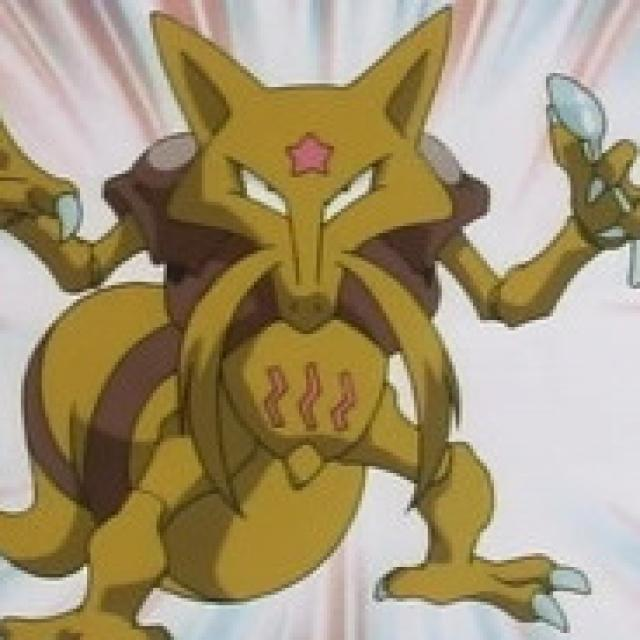Kadabra: (16, 0, 549, 614)
